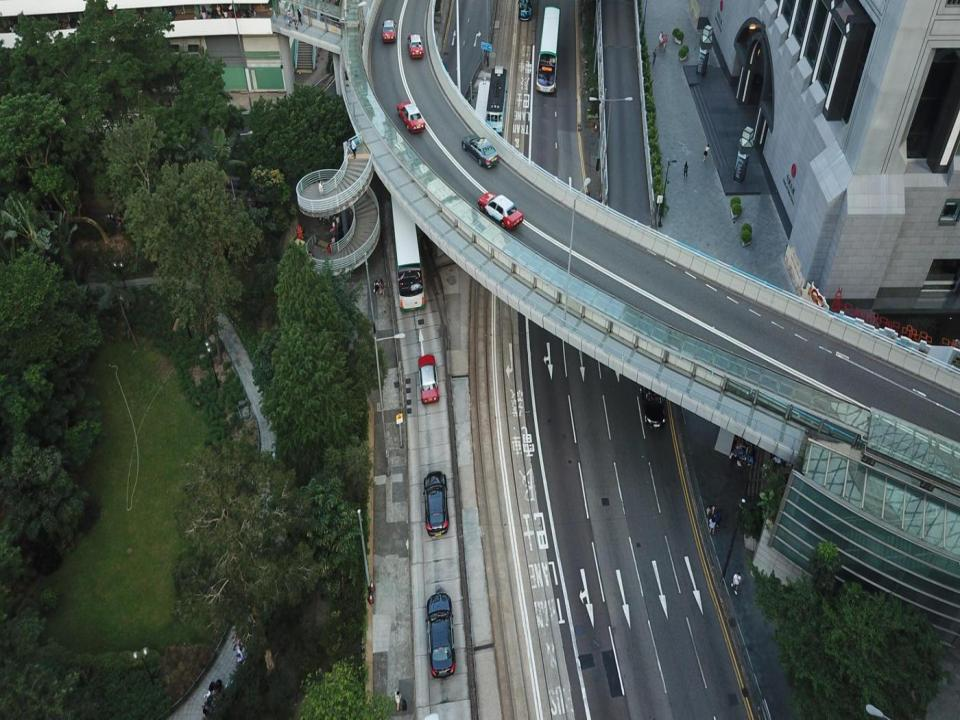bus: (389, 174, 424, 310), (536, 6, 559, 94), (486, 66, 506, 136)
car: (425, 592, 456, 679), (477, 191, 523, 229), (423, 472, 449, 539), (641, 367, 665, 428), (462, 134, 499, 168), (419, 354, 438, 403), (398, 100, 424, 132), (408, 31, 424, 59), (382, 18, 396, 40)
